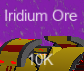Iridium: (3, 8, 79, 65)
